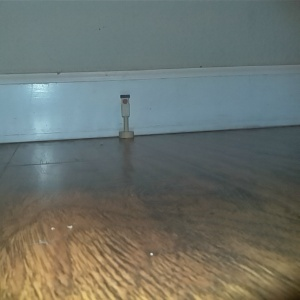traffic light red: (116, 93, 134, 140)
